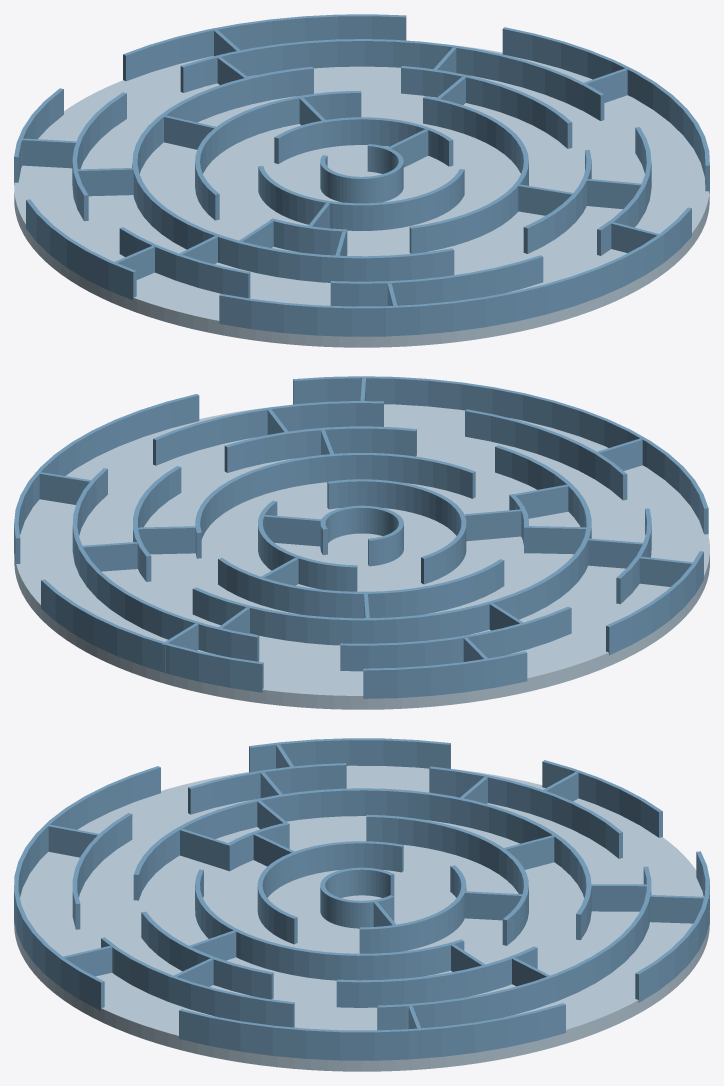
File: maze1.fbx
The picture shows the model from 3 angles, top to bottom: view 1: azimuth 30°, elevation 25°; view 2: azimuth 150°, elevation 25°; view 3: azimuth 270°, elevation 25°; orthographic projection.
Parts seen in each view (by area): view 1: Cylinder, Cylinder.006, Cylinder.005, Cylinder.004, Cylinder.003, Cylinder.002, Cylinder.001, Cube.018, Cube.017, Cube.009, Cube.006, Cube.013 (+6 smaller); view 2: Cylinder, Cylinder.006, Cylinder.005, Cylinder.004, Cylinder.003, Cylinder.002, Cylinder.001, Cube.005, Cube.002, Cube.010, Cube.001, Cube.015 (+8 smaller); view 3: Cylinder, Cylinder.006, Cylinder.005, Cylinder.004, Cylinder.003, Cylinder.002, Cylinder.001, Cube.014, Cube.019, Cube.003, Cube.004, Cube.007 (+8 smaller).
Part boxes in pixels (box(x1,y1,x2,y2)): Cylinder: box(14, 45, 709, 347); Cylinder.006: box(14, 14, 709, 336); Cylinder.005: box(72, 39, 651, 306); Cylinder.004: box(132, 66, 591, 282); Cylinder.003: box(195, 90, 528, 255); Cylinder.002: box(258, 117, 464, 230); Cylinder.001: box(320, 144, 403, 203); Cube.018: box(22, 138, 76, 168); Cube.017: box(78, 168, 133, 196); Cube.009: box(587, 179, 641, 209); Cube.006: box(518, 184, 572, 215); Cube.013: box(164, 115, 215, 149); Cylinder: box(14, 404, 709, 709); Cylinder.006: box(14, 376, 708, 698); Cylinder.005: box(72, 401, 651, 671); Cylinder.004: box(133, 426, 591, 645); Cylinder.003: box(195, 453, 528, 618); Cylinder.002: box(258, 479, 466, 591); Cylinder.001: box(320, 505, 403, 566); Cube.005: box(464, 509, 521, 541); Cube.002: box(264, 515, 321, 546); Cube.010: box(138, 526, 195, 554); Cube.001: box(529, 526, 586, 554); Cube.015: box(588, 538, 642, 568); Cylinder: box(14, 765, 709, 1071); Cylinder.006: box(14, 738, 709, 1060); Cylinder.005: box(72, 763, 651, 1030); Cylinder.004: box(133, 788, 591, 1007); Cylinder.003: box(195, 814, 528, 980); Cylinder.002: box(257, 841, 466, 953); Cylinder.001: box(320, 867, 394, 928); Cube.014: box(591, 884, 646, 911); Cube.019: box(650, 895, 709, 926); Cube.003: box(464, 891, 522, 920); Cube.004: box(180, 829, 227, 869); Cube.007: box(48, 824, 98, 857).
Size of the model in its own units: 1000 by 62.51 by 1000.
